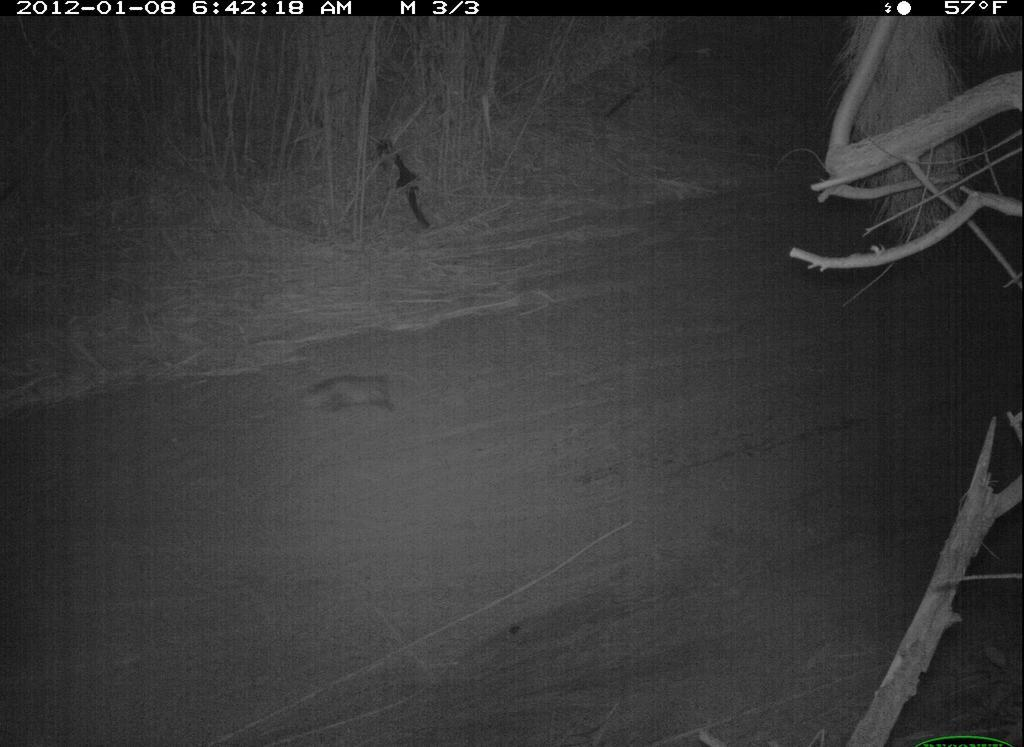opossum: (289, 367, 410, 422)
